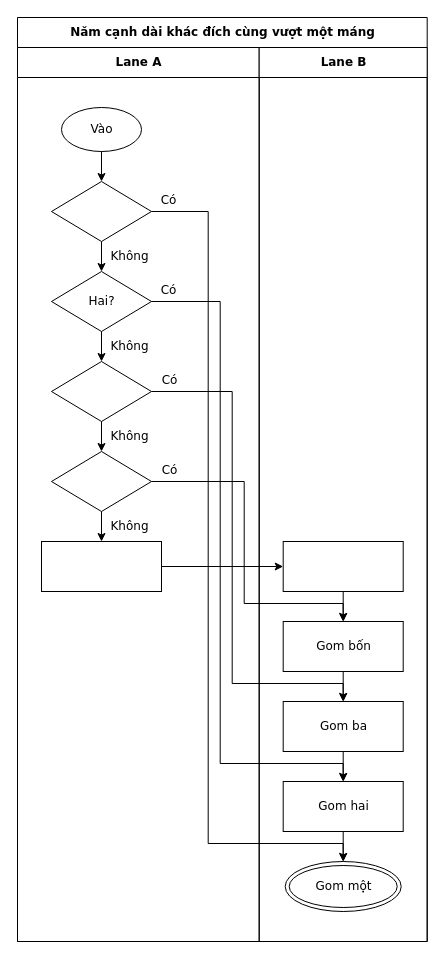
The diagram is 445 pixels wide and 959 high, and some of its shapes have lost their labels. The shapes that lost their labels are listed below. From the top down, each one's box as (x1, y1, x2, y2) in pixels, then its label:
(50, 180, 152, 242): Một?
(50, 360, 152, 422): Ba?
(50, 450, 152, 512): Bốn?
(40, 540, 162, 592): Qua hết
(282, 540, 403, 592): Nhận
